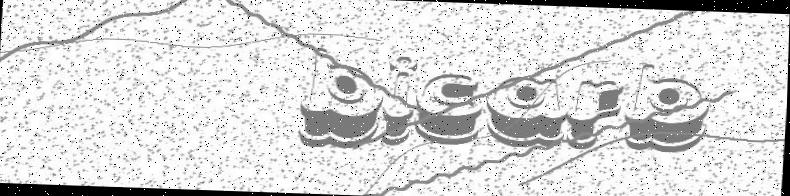a: (482, 74, 569, 149)
b: (296, 47, 386, 152), (622, 61, 712, 154)
c: (413, 71, 484, 147)
i: (381, 54, 417, 146)
r: (567, 78, 624, 153)
